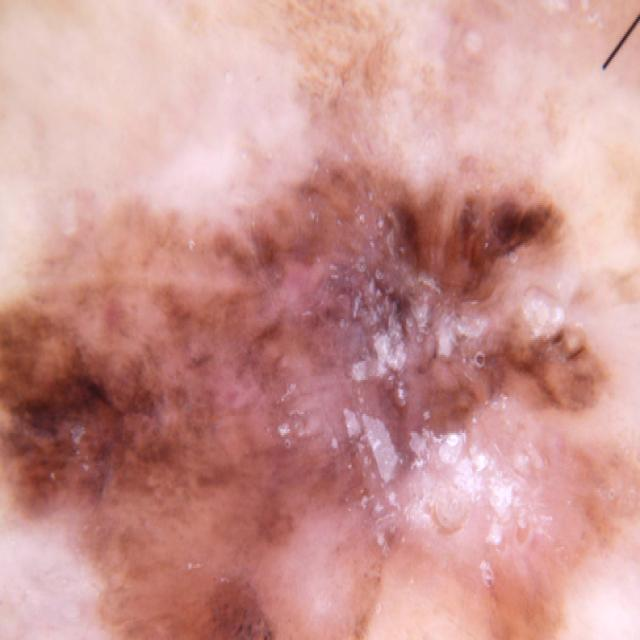Carcinoma: (0, 108, 624, 640)
